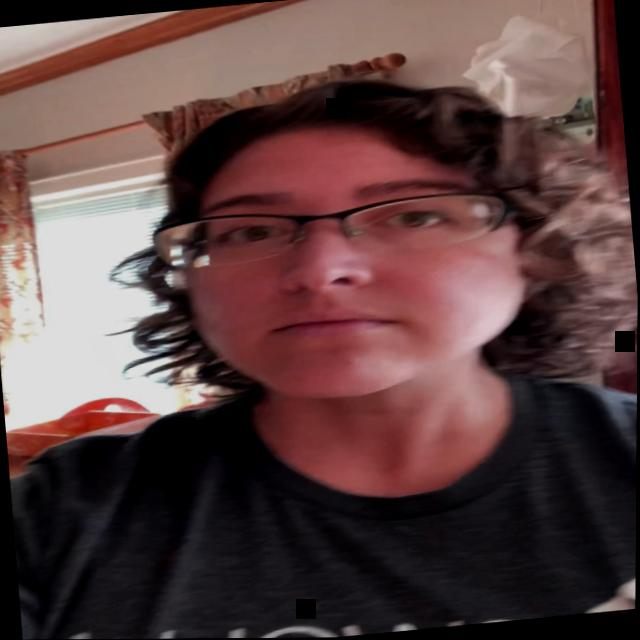NO-Mask: (165, 108, 551, 414)
